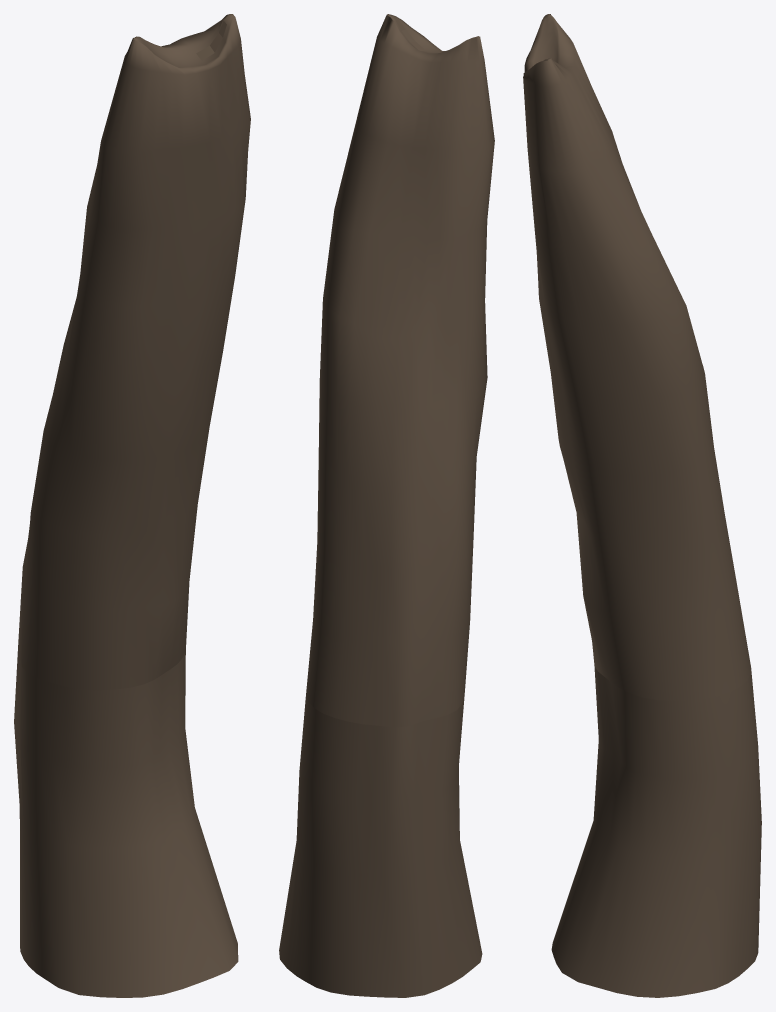
File: silent2.fbx
3 renders of one model, left to right at view 1: azimuth 30°, elevation 25°; view 2: azimuth 150°, elevation 25°; view 3: azimuth 270°, elevation 25°, orthographic. The views are drawn at different scales.
Visible parts, largest first — view 1: Cylinder.001; view 2: Cylinder.001; view 3: Cylinder.001.
Boxes of the visible parts, x1=… form: Cylinder.001: x1=14, y1=14, x2=250, y2=997; Cylinder.001: x1=279, y1=14, x2=494, y2=997; Cylinder.001: x1=523, y1=14, x2=761, y2=997.
Bounding box in the file's own units: 246 × 1204 × 284.
